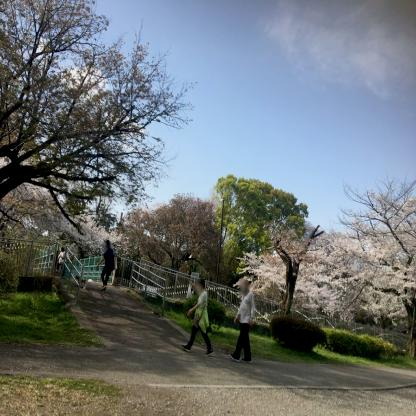Someiyoshino: (235, 176, 414, 329), (1, 149, 134, 266)
